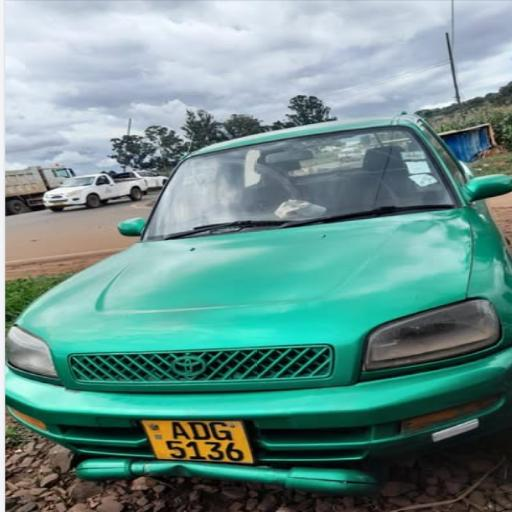number-plates: (146, 418, 248, 460)
